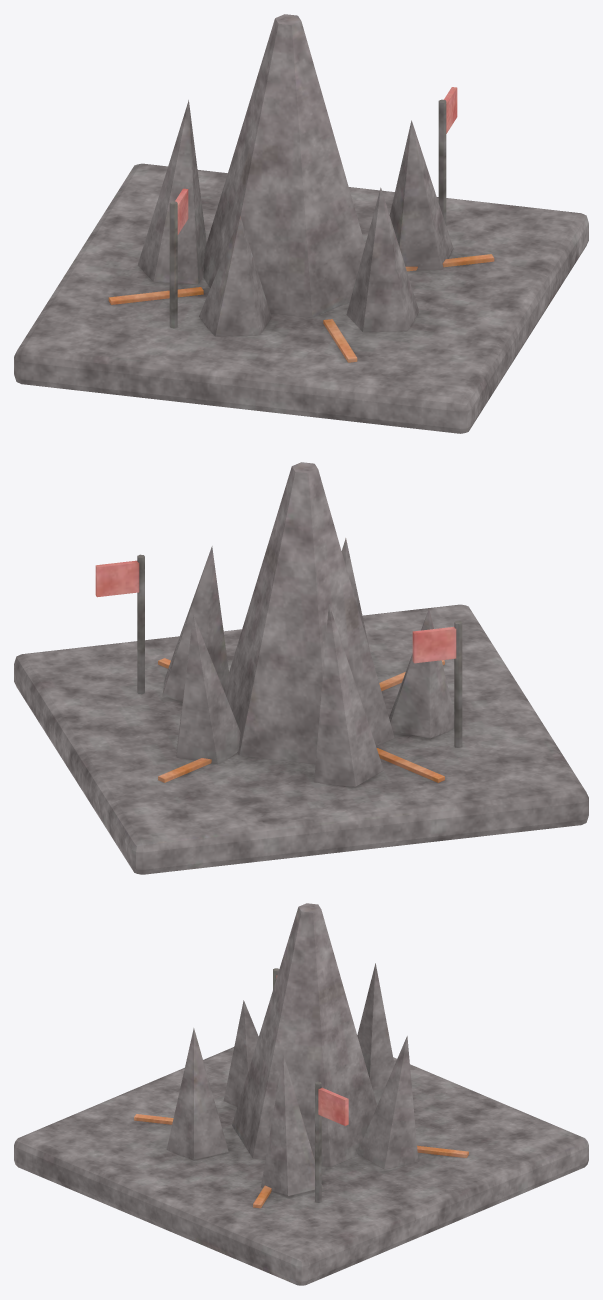
Rendered from capital_horda.glb.
The picture shows the model from 3 angles, top to bottom: view 1: azimuth 30°, elevation 25°; view 2: azimuth 150°, elevation 25°; view 3: azimuth 270°, elevation 25°; orthographic projection. The views are drawn at different scales.
Parts seen in each view (by area): view 1: dilek; view 2: dilek; view 3: dilek.
Part boxes in pixels (x1=…): dilek: x1=14, y1=14, x2=588, y2=433; dilek: x1=14, y1=462, x2=588, y2=874; dilek: x1=14, y1=903, x2=588, y2=1285.
Size of the model in its own units: 2.42 by 1.19 by 2.42.
1 material, 1 textured.
